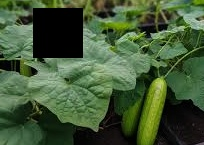cucumber: (135, 78, 168, 145)
cucumber_plant: (4, 22, 115, 129)
